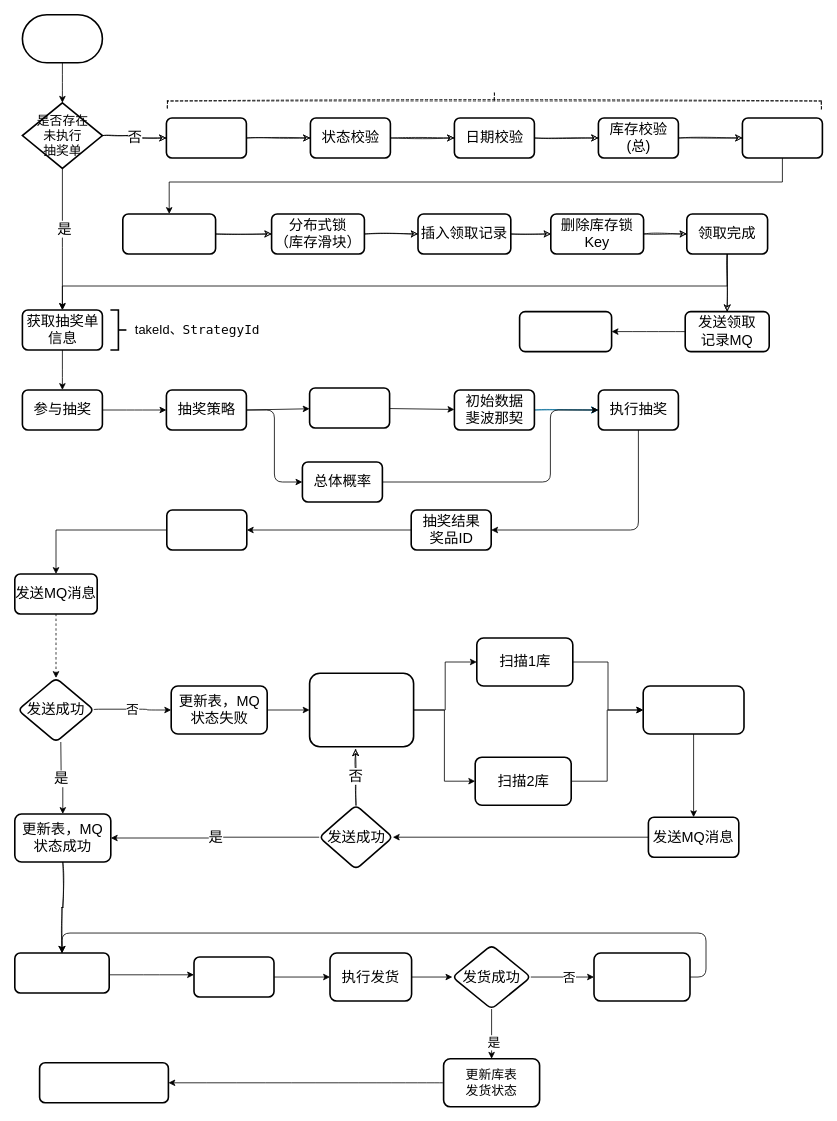
This 837x1121 diagram has some shape labels left out. Each missing label, with the centre of its shape:
MQ 消息重试: [641,976]
redis扣减库存: [169,233]
Worker 扫描表发送状态进行补偿发送MQ: [361,709]
单项概率: [349,407]
参与次数: [782,137]
奖品落库: [206,529]
异步更新库存: [565,331]
扫描4张表 读取未发送MQ数据: [693,709]
查询活动账单，并校验信息: [494,100]
活动开始: [62,38]
获取奖品发货工厂服务: [233,976]
触发奖品发货: [62,972]
返回用户抽奖结果: [103,1082]
领取活动: [206,137]
